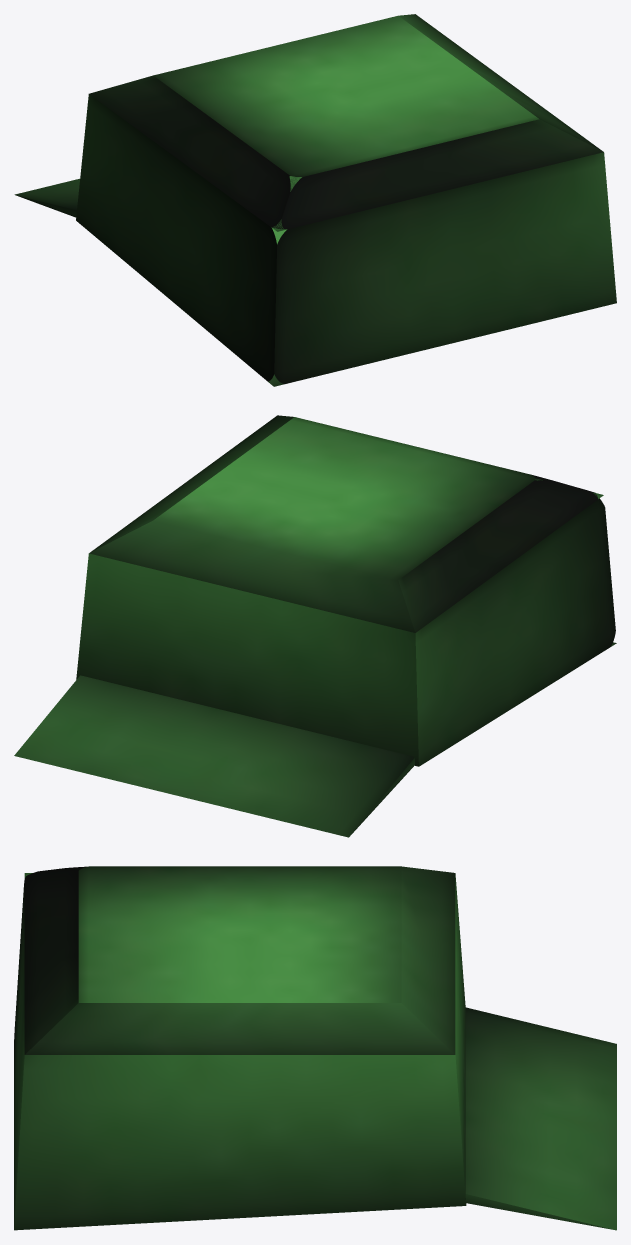
The model's file is capgreen.obj.
3 renders of one model, top to bottom at view 1: azimuth 30°, elevation 25°; view 2: azimuth 150°, elevation 25°; view 3: azimuth 270°, elevation 25°, orthographic. The views are drawn at different scales.
Visible parts, largest first — view 1: headModel1, headModel2, headModel0; view 2: headModel1, headModel2, headModel0; view 3: headModel2, headModel1, headModel0.
Boxes of the visible parts, box(x1,y1,x2,y2) form: headModel1: box(76, 94, 616, 386); headModel2: box(89, 14, 603, 231); headModel0: box(14, 178, 79, 217); headModel1: box(76, 478, 616, 766); headModel2: box(89, 415, 603, 632); headModel0: box(14, 675, 415, 837); headModel2: box(24, 866, 455, 1054); headModel1: box(14, 873, 466, 1230); headModel0: box(465, 1007, 616, 1230).
Bounding box in the file's own units: 8.4 × 4.15 × 11.2.
